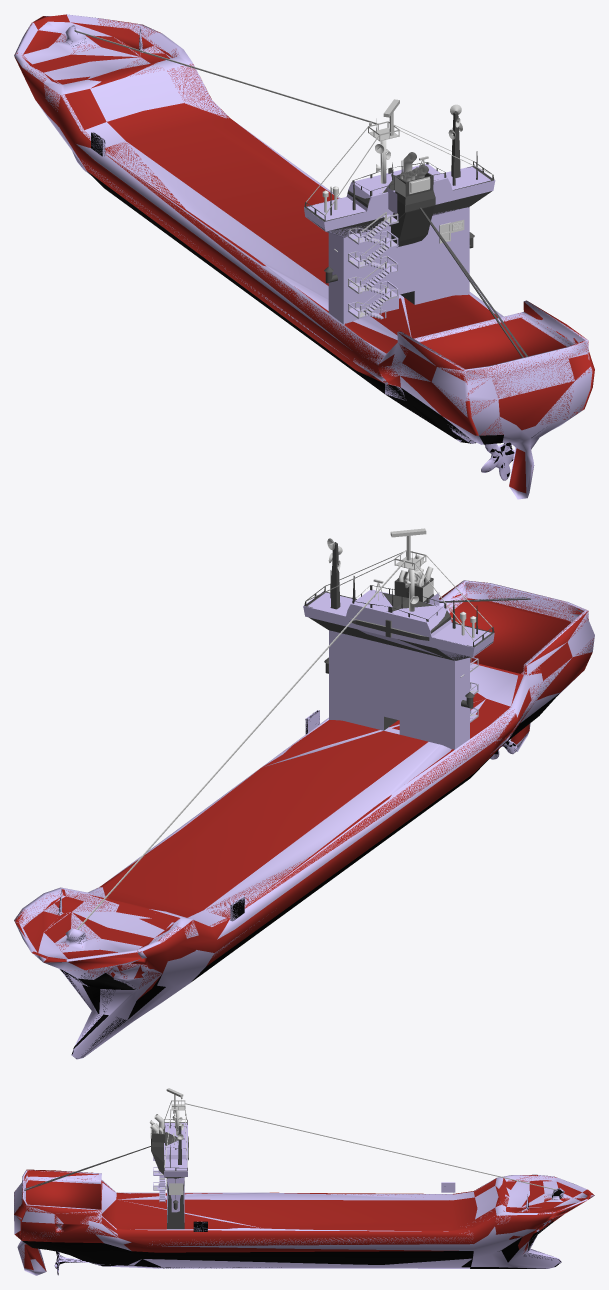
The model's file is ship.fbx.
The picture shows the model from 3 angles, top to bottom: view 1: azimuth 30°, elevation 25°; view 2: azimuth 150°, elevation 25°; view 3: azimuth 270°, elevation 25°; orthographic projection. The views are drawn at different scales.
Parts seen in each view (by area): view 1: Ship_LOD0, UTM_Ship_01; view 2: Ship_LOD0, UTM_Ship_01; view 3: Ship_LOD0, UTM_Ship_01.
Part boxes in pixels (bbox=[...]): Ship_LOD0: bbox=[14, 14, 594, 493]; UTM_Ship_01: bbox=[14, 14, 592, 499]; Ship_LOD0: bbox=[14, 528, 593, 1056]; UTM_Ship_01: bbox=[14, 580, 594, 1059]; Ship_LOD0: bbox=[14, 1088, 594, 1274]; UTM_Ship_01: bbox=[14, 1123, 594, 1275].
Size of what is drawn, in the model's own units: 408 by 703 by 2038.
